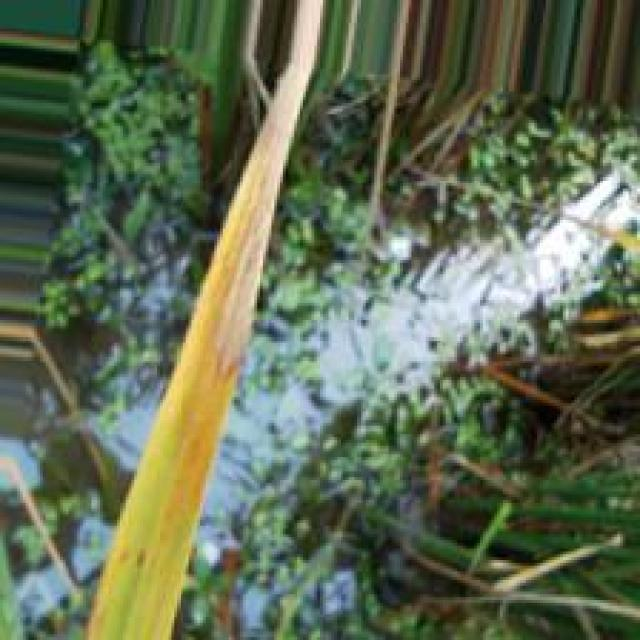Leaf_Scald: (208, 69, 312, 384)
